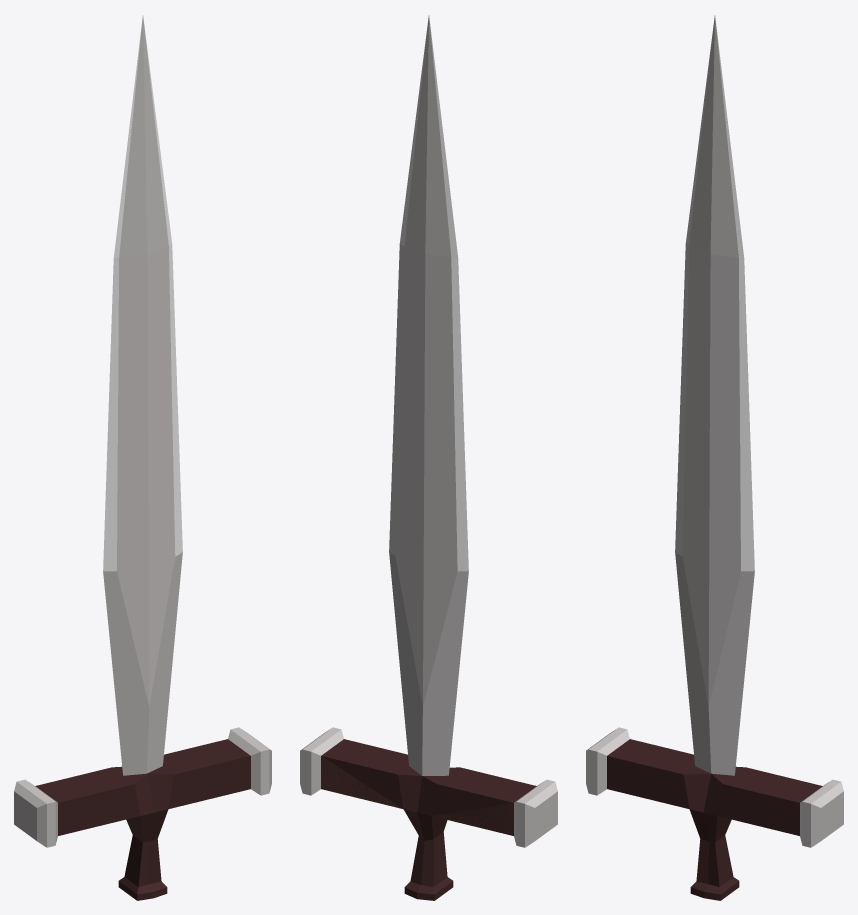
File: sword.fbx
The picture shows the model from 3 angles, left to right: view 1: azimuth 30°, elevation 25°; view 2: azimuth 150°, elevation 25°; view 3: azimuth 330°, elevation 25°; orthographic projection.
Visible parts, largest first — view 1: sword; view 2: sword; view 3: sword.
Boxes of the visible parts, x1,y1,x2,y2 form: sword: [14, 15, 271, 900]; sword: [300, 15, 557, 900]; sword: [586, 15, 843, 900].
Bounding box in the file's own units: 23.63 × 84.2 × 5.29.
